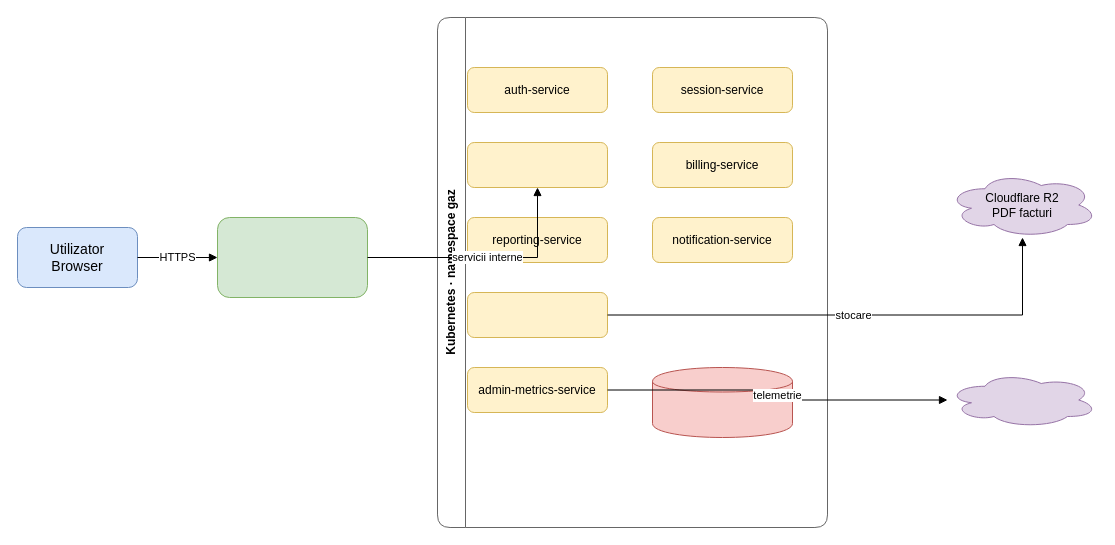
Some shapes in this 1115 by 545 pixel diagram are drawn without their labels. Each missing label, with the centre of its shape:
CalculatorGaz Next.js: (292,257)
invoice-service: (537,315)
OpenTelemetry: (1022,400)
PostgreSQL extern Prisma: (722,402)
reading-service: (537,165)
